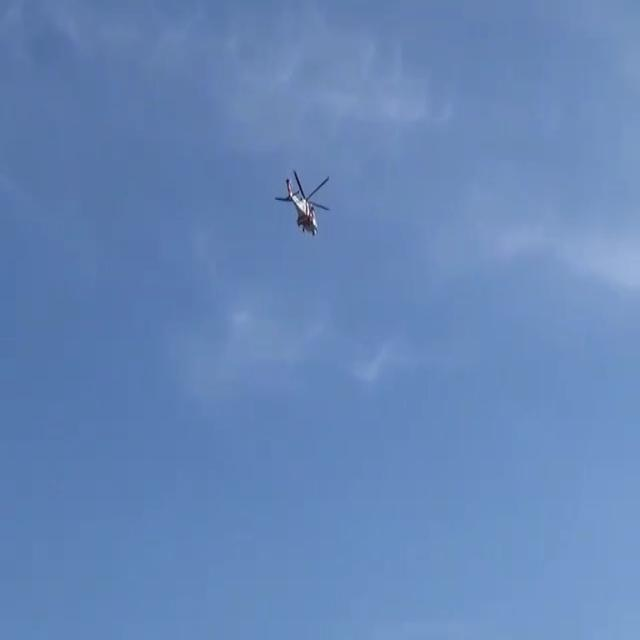Helicopter: (263, 153, 347, 249)
